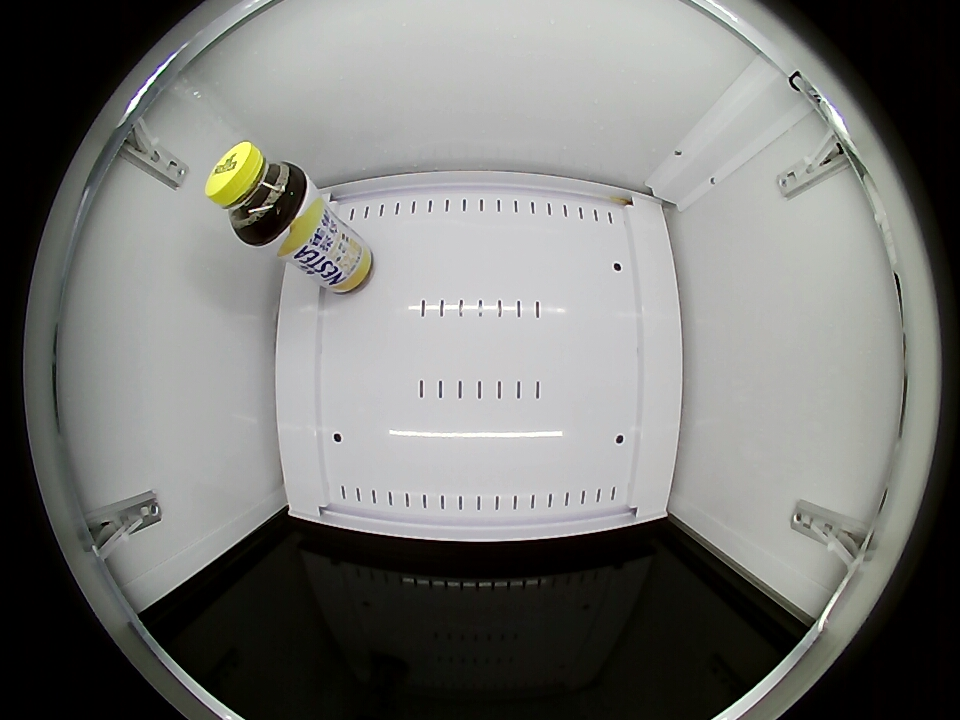chacui: (206, 142, 307, 246)
